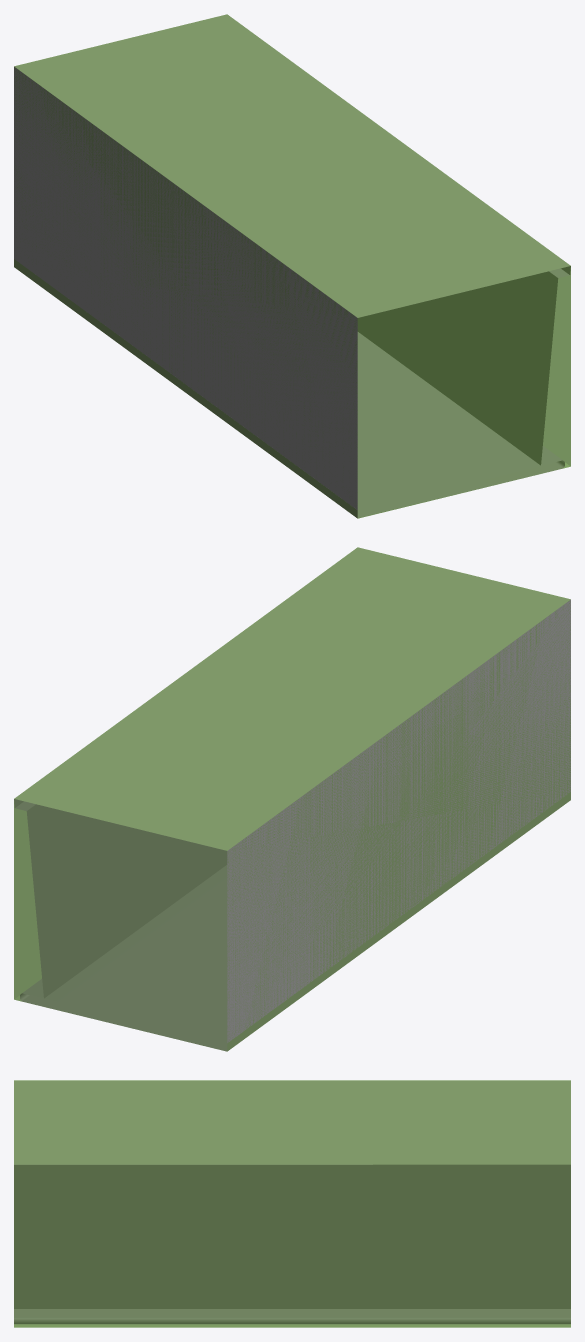
The model's file is M_md_StallSign_1m_01.fbx.
3 renders of one model, top to bottom at view 1: azimuth 30°, elevation 25°; view 2: azimuth 150°, elevation 25°; view 3: azimuth 270°, elevation 25°, orthographic. The views are drawn at different scales.
Parts seen in each view (by area): view 1: M_md_StallSign_1m_01, M_md_StallSign_1m_01_col_01; view 2: M_md_StallSign_1m_01, M_md_StallSign_1m_01_col_01; view 3: M_md_StallSign_1m_01_col_01, M_md_StallSign_1m_01.
Boxes of the visible parts, x1,y1,x2,y2 form: M_md_StallSign_1m_01: (14,14,570,518); M_md_StallSign_1m_01_col_01: (14,14,570,518); M_md_StallSign_1m_01: (14,547,570,1051); M_md_StallSign_1m_01_col_01: (14,547,570,1051); M_md_StallSign_1m_01_col_01: (14,1080,570,1327); M_md_StallSign_1m_01: (14,1080,570,1324).
Size of the model in its own units: 35.83 by 32.23 by 100.
